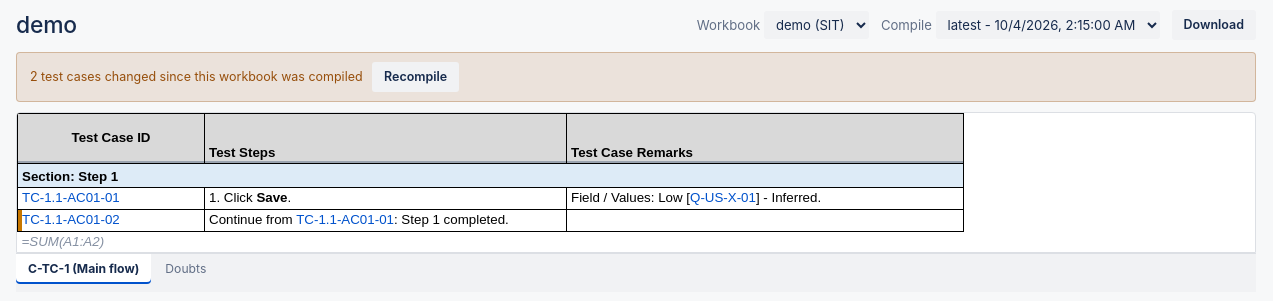
Test: WorkbookPage › counts the changed test cases and recompiles the suite, then re-reads the file
Check: the text "2 test cases changed since this workbook was compiled" is shown, box [30, 69, 363, 84]
Click the button "Recompile".
click(416, 77)  # box [372, 62, 459, 92]
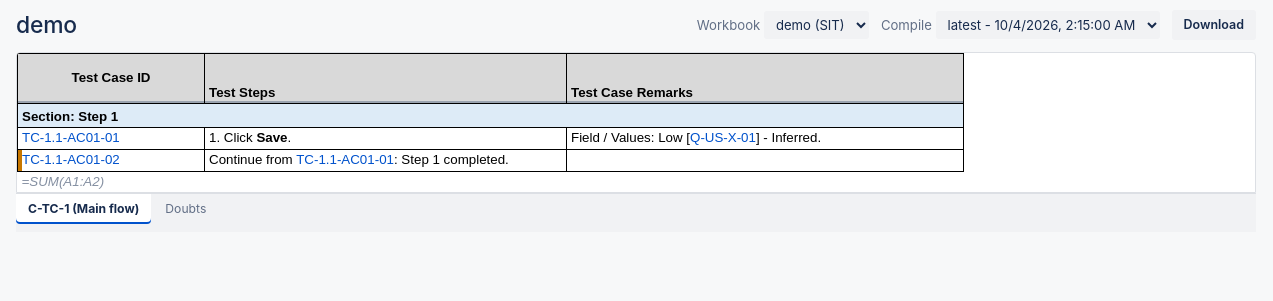
Check: the text "changed since this workbook" is gone
